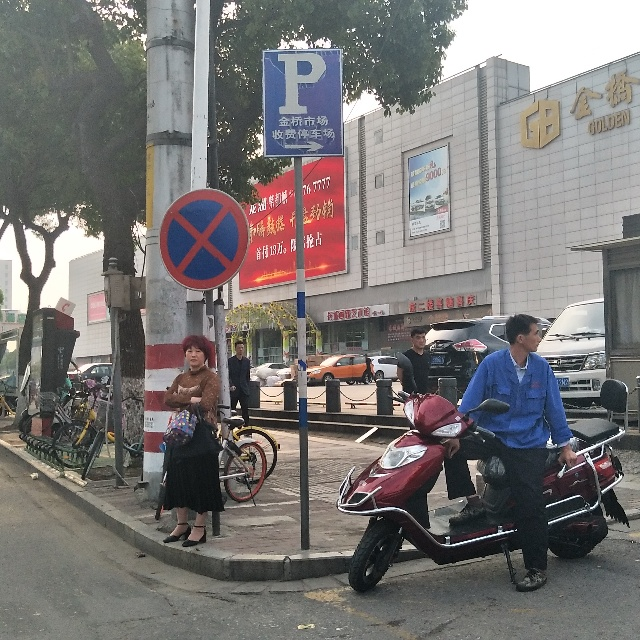stop: (159, 189, 249, 293)
